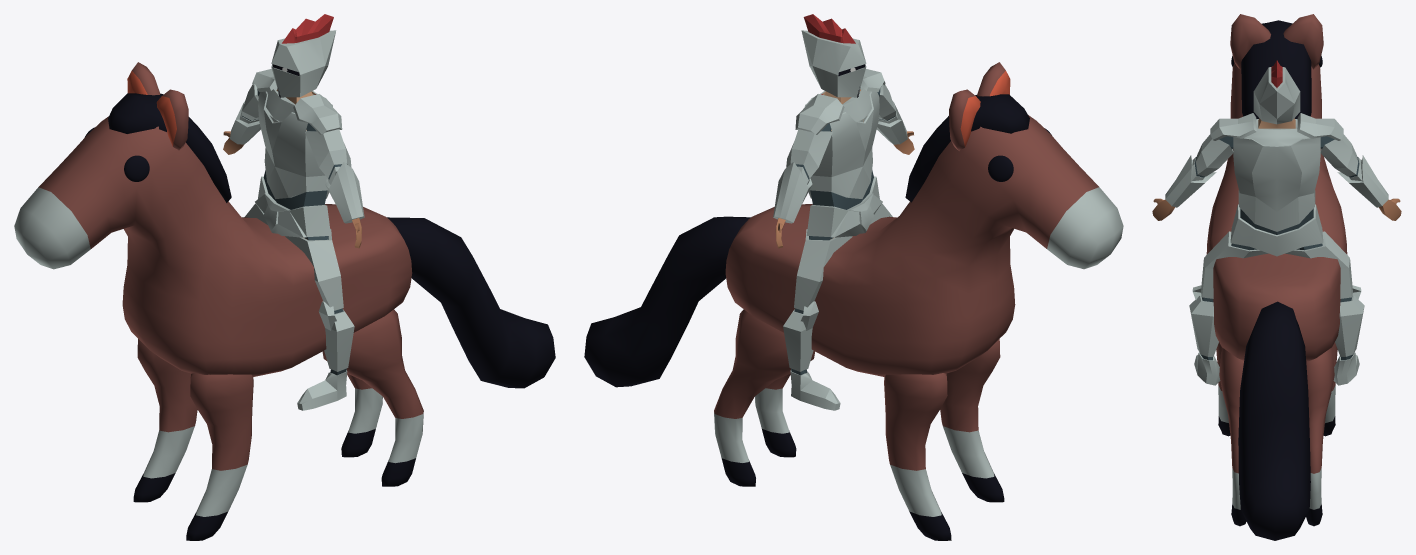
The model's file is Knight_with_Horse.fbx.
3 renders of one model, left to right at view 1: azimuth 30°, elevation 25°; view 2: azimuth 150°, elevation 25°; view 3: azimuth 270°, elevation 25°, orthographic. The views are drawn at different scales.
Visible parts, largest first — view 1: Cube.002, Knight_Object; view 2: Cube.002, Knight_Object; view 3: Cube.002, Knight_Object.
Part boxes in pixels (box(x1,y1,x2,y2)): Cube.002: box(14, 62, 555, 540); Knight_Object: box(223, 14, 364, 410); Cube.002: box(584, 62, 1123, 540); Knight_Object: box(773, 14, 914, 410); Cube.002: box(1206, 14, 1347, 540); Knight_Object: box(1152, 60, 1401, 385).
Bounding box in the file's own units: 273 × 233 × 121.
